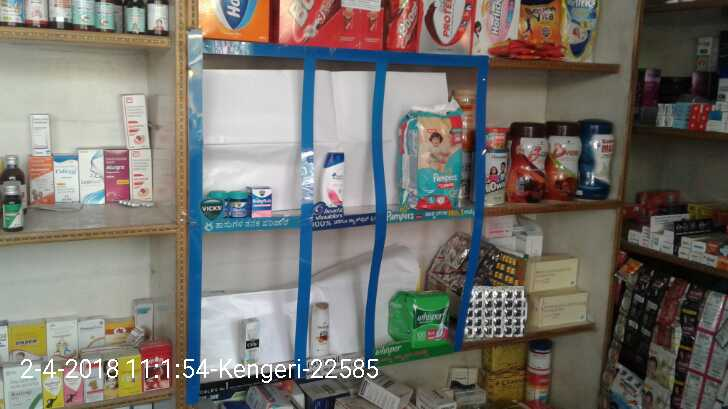vicks: (210, 186, 250, 218), (250, 186, 273, 218)
